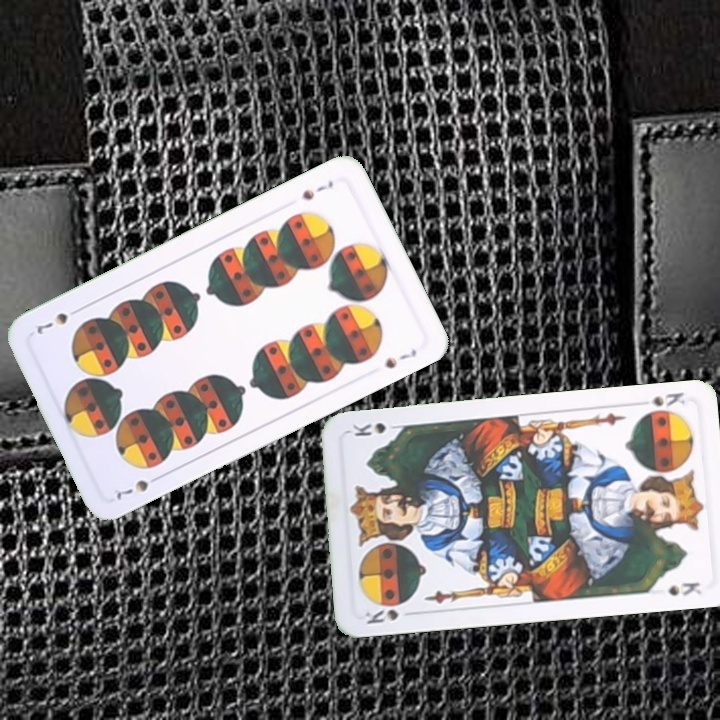S7: (112, 471, 165, 503), (298, 176, 336, 203)
SK: (638, 388, 687, 418), (359, 605, 418, 627)
